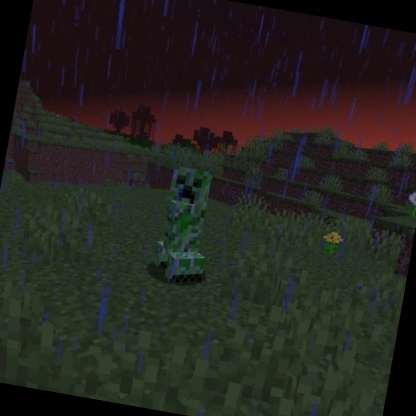creeper: (146, 162, 227, 293)
